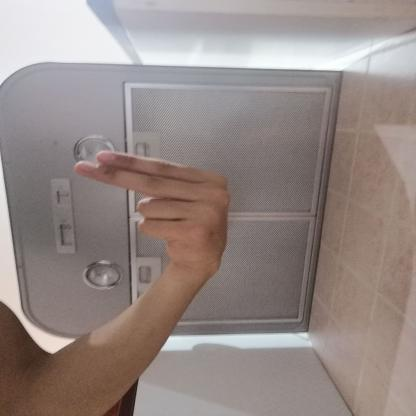AYN: (60, 136, 249, 278)
